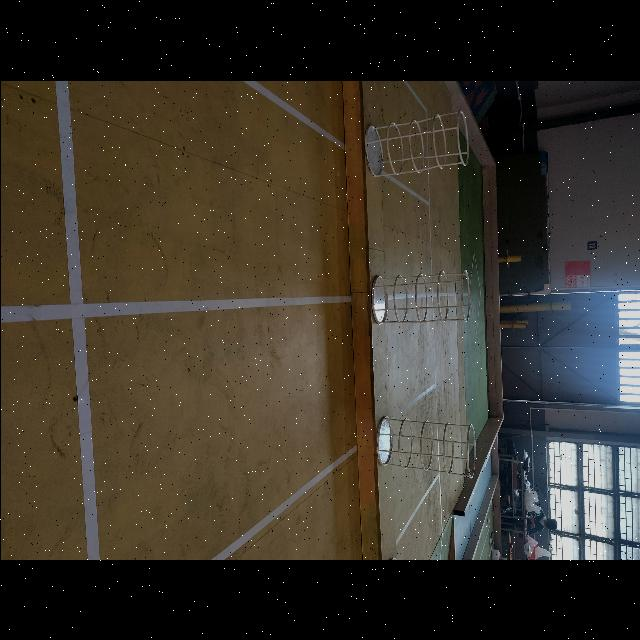S: (363, 109, 469, 178), (374, 414, 476, 479), (369, 269, 471, 325)
